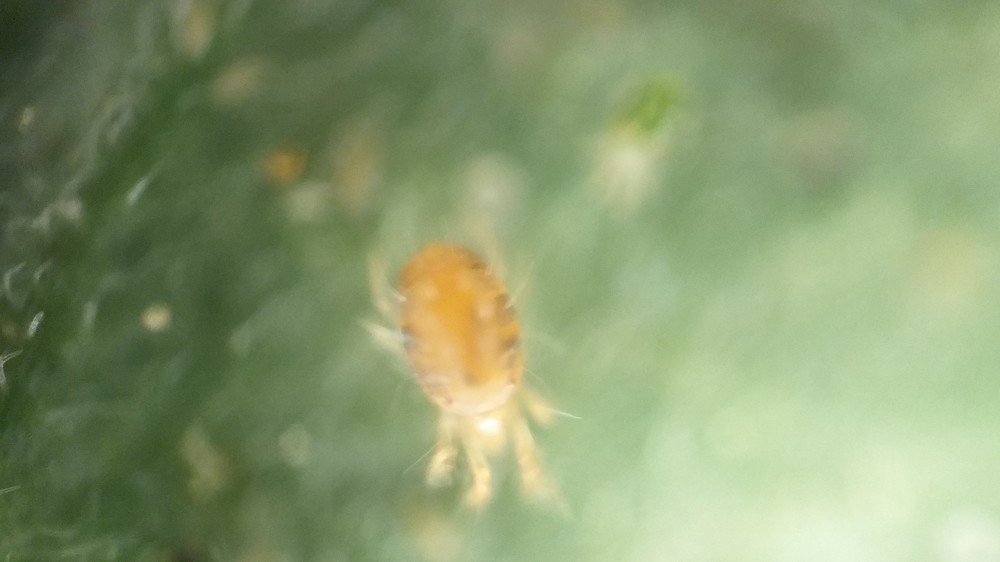Aracnido Rojo: (338, 228, 630, 521)
